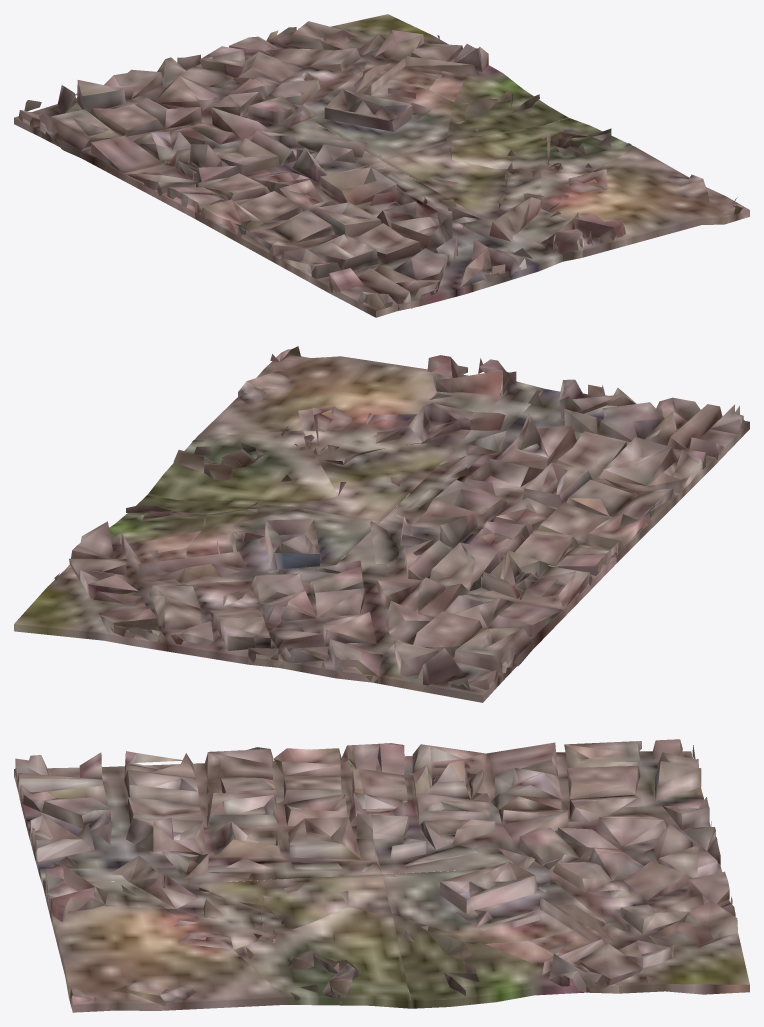
The picture shows the model from 3 angles, top to bottom: view 1: azimuth 30°, elevation 25°; view 2: azimuth 150°, elevation 25°; view 3: azimuth 270°, elevation 25°; orthographic projection. The views are drawn at different scales.
Visible parts, largest first — view 1: Mesh_0; view 2: Mesh_0; view 3: Mesh_0.
Boxes of the visible parts, x1,y1,x2,y2 form: Mesh_0: (14,14,749,317); Mesh_0: (14,346,749,702); Mesh_0: (14,739,749,1012).
Bounding box in the file's own units: 1064 × 129 × 1318.
Materials: 2 (2 with a texture image).
